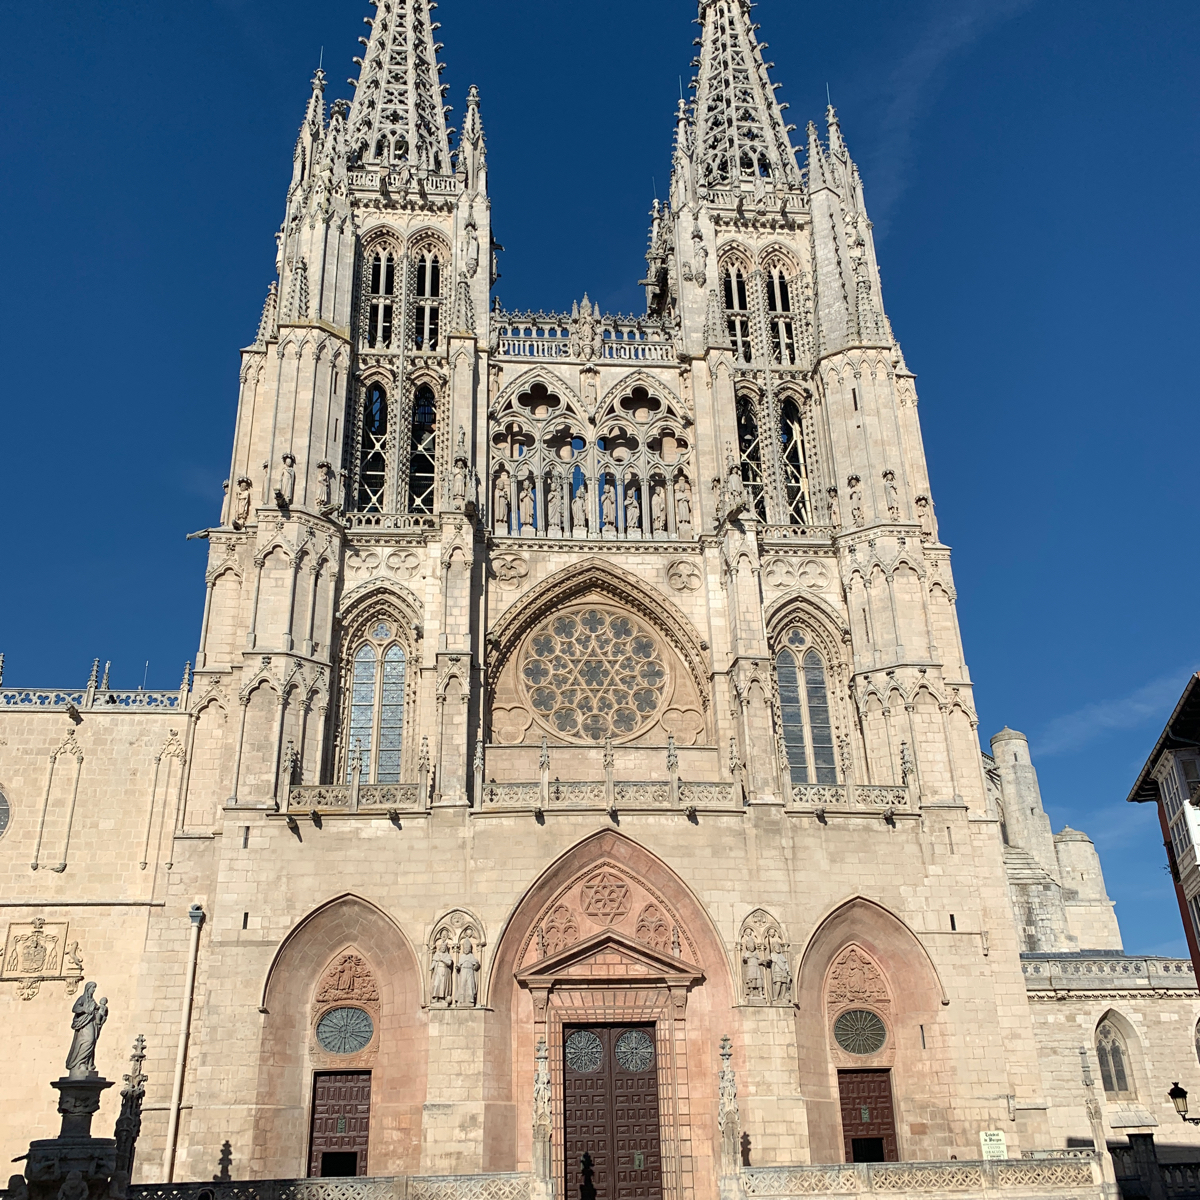arco-apuntado: (475, 552, 707, 684), (485, 816, 713, 937), (255, 890, 419, 1001), (787, 893, 941, 1001), (488, 367, 591, 453), (591, 368, 696, 451), (330, 578, 427, 654), (764, 589, 843, 666)
fronton: (513, 927, 703, 990)
pinaculo-gotico: (689, 1, 800, 162), (337, 1, 455, 142), (825, 84, 862, 179)
vano-adintelado: (527, 991, 676, 1200)
